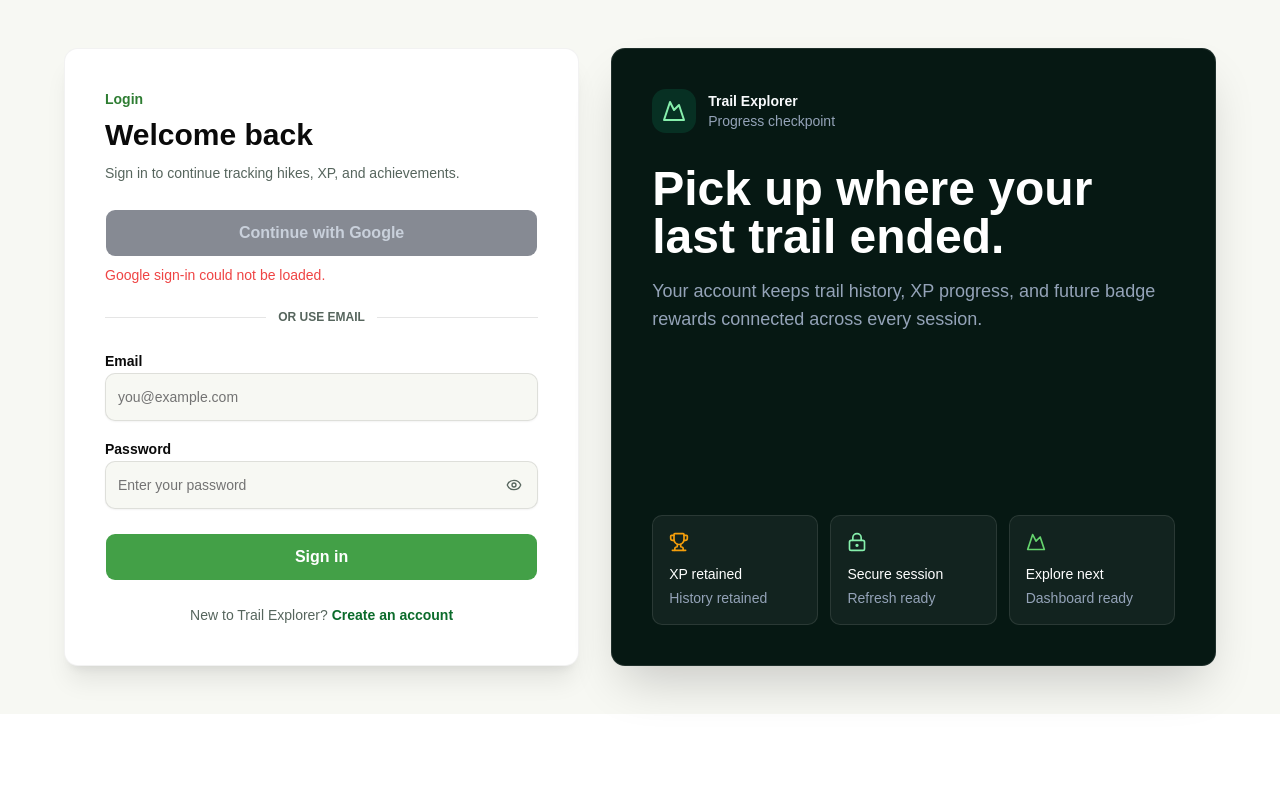
LoginPage › shows validation messages for invalid email and short password
This screenshot has width=1280, height=800.
Step 1. Type "not-an-email" into the field labelled "Email" → (322, 397), box 105,373 -> 538,421
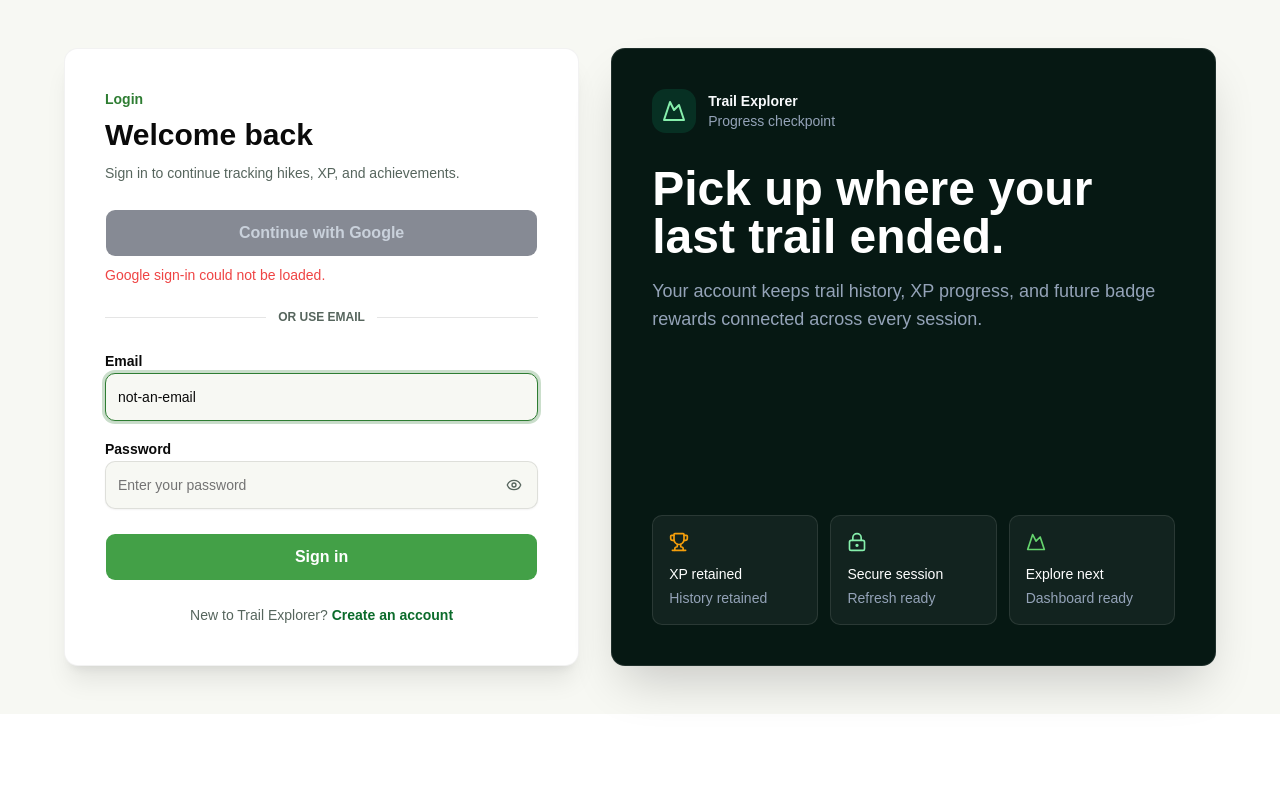
Step 2. Type "short" into the password field labelled "Password" → (322, 485), box 105,461 -> 538,509
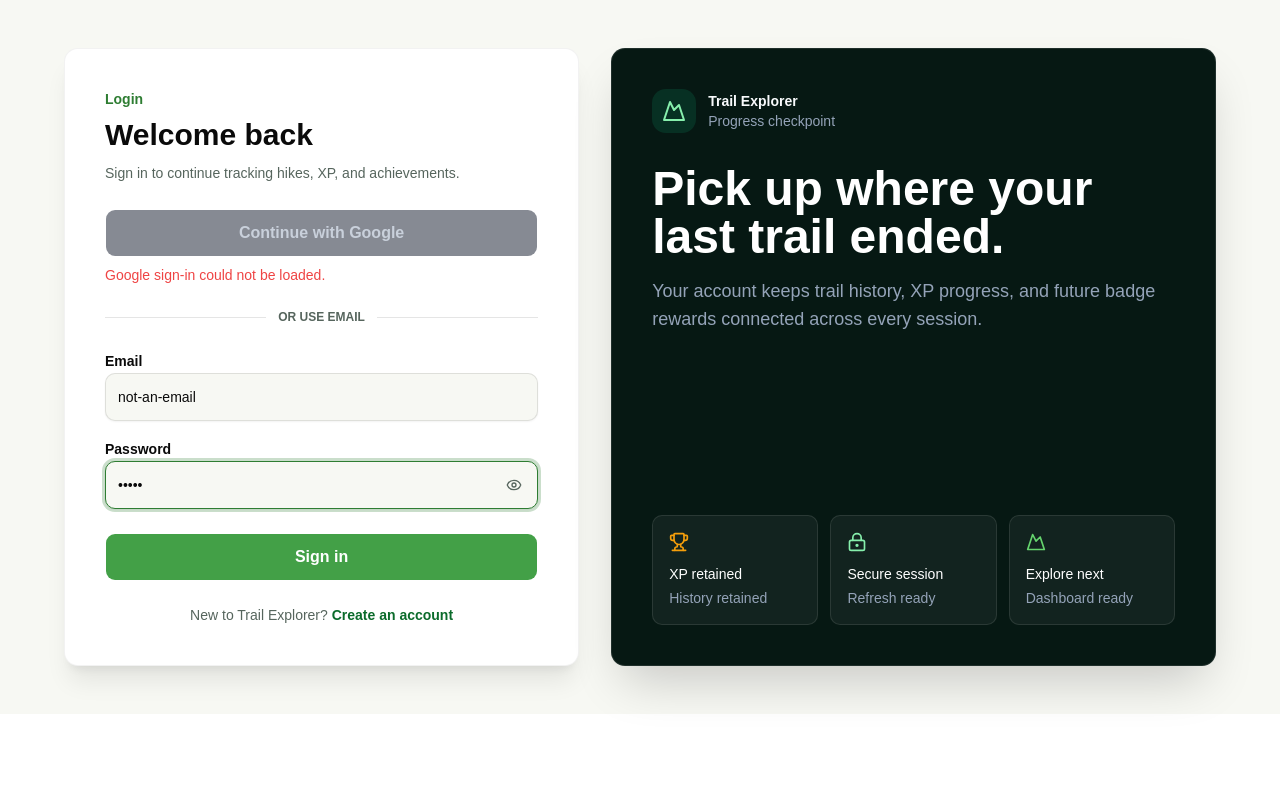
Step 3. Click the button "Sign in" → (322, 557), box 105,533 -> 538,581
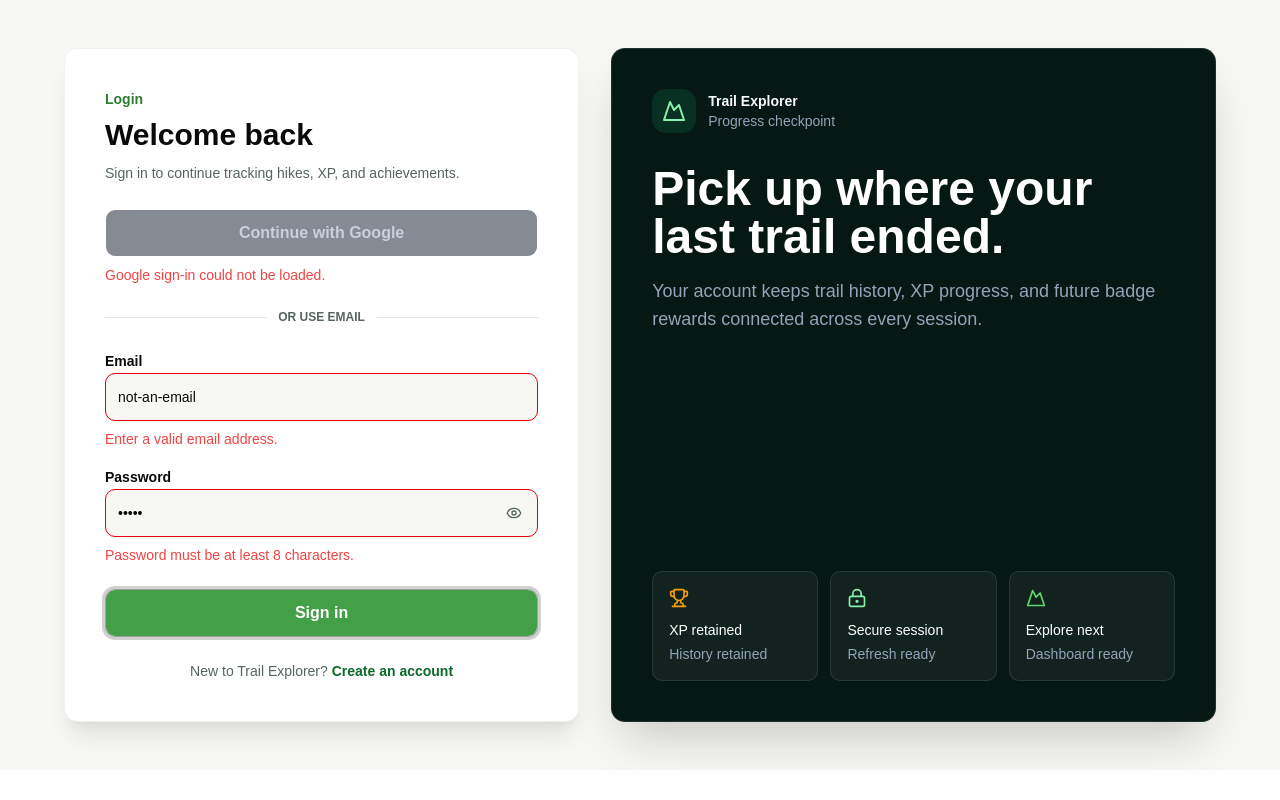
Expected: the text "Enter a valid email address." is shown, 105,431 -> 278,447
Expected: the text "Password must be at least 8 characters." is shown, 105,547 -> 354,563
